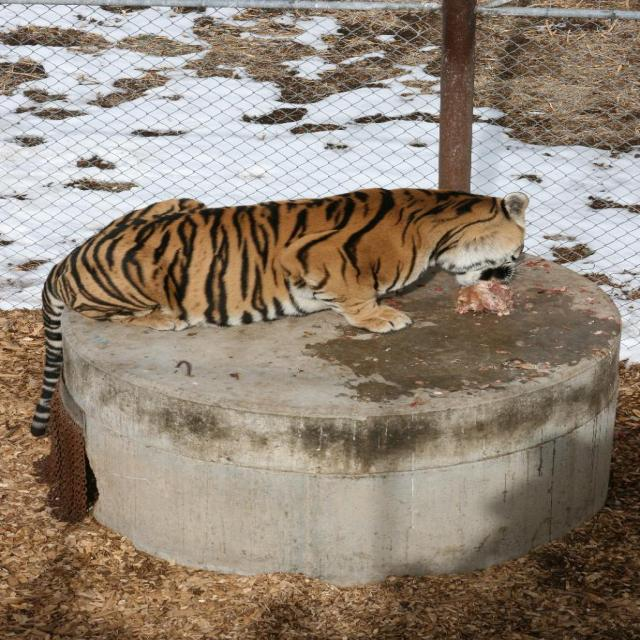Tiger: (29, 184, 534, 436)
